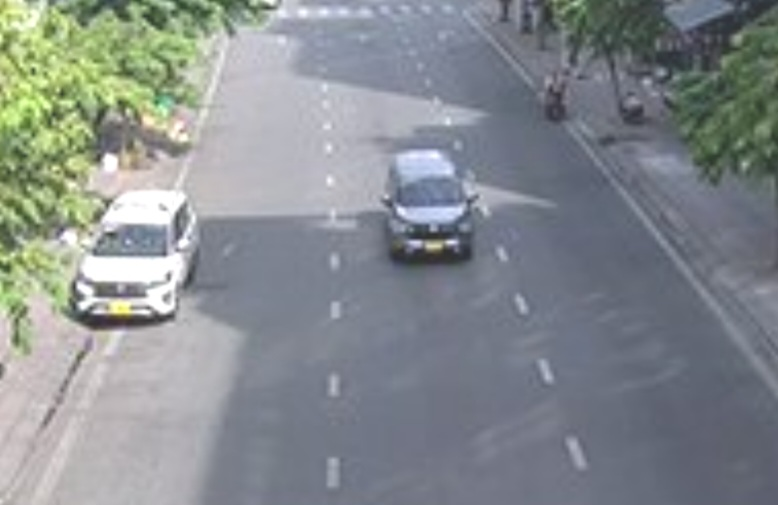car: (76, 189, 199, 325), (381, 149, 478, 265)
